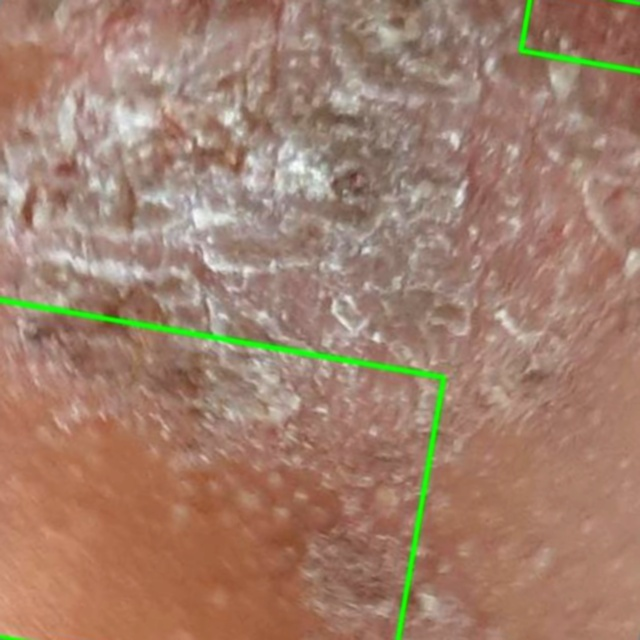Contact Dermatitis: (0, 300, 443, 639)
